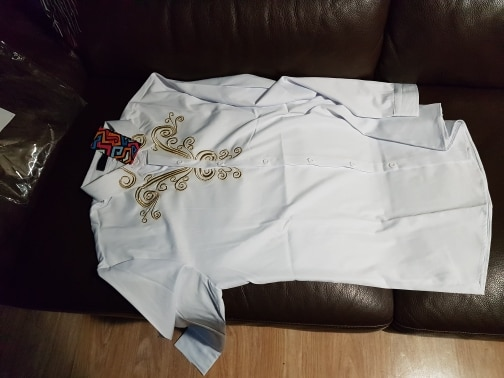shirts: (71, 69, 504, 365)
